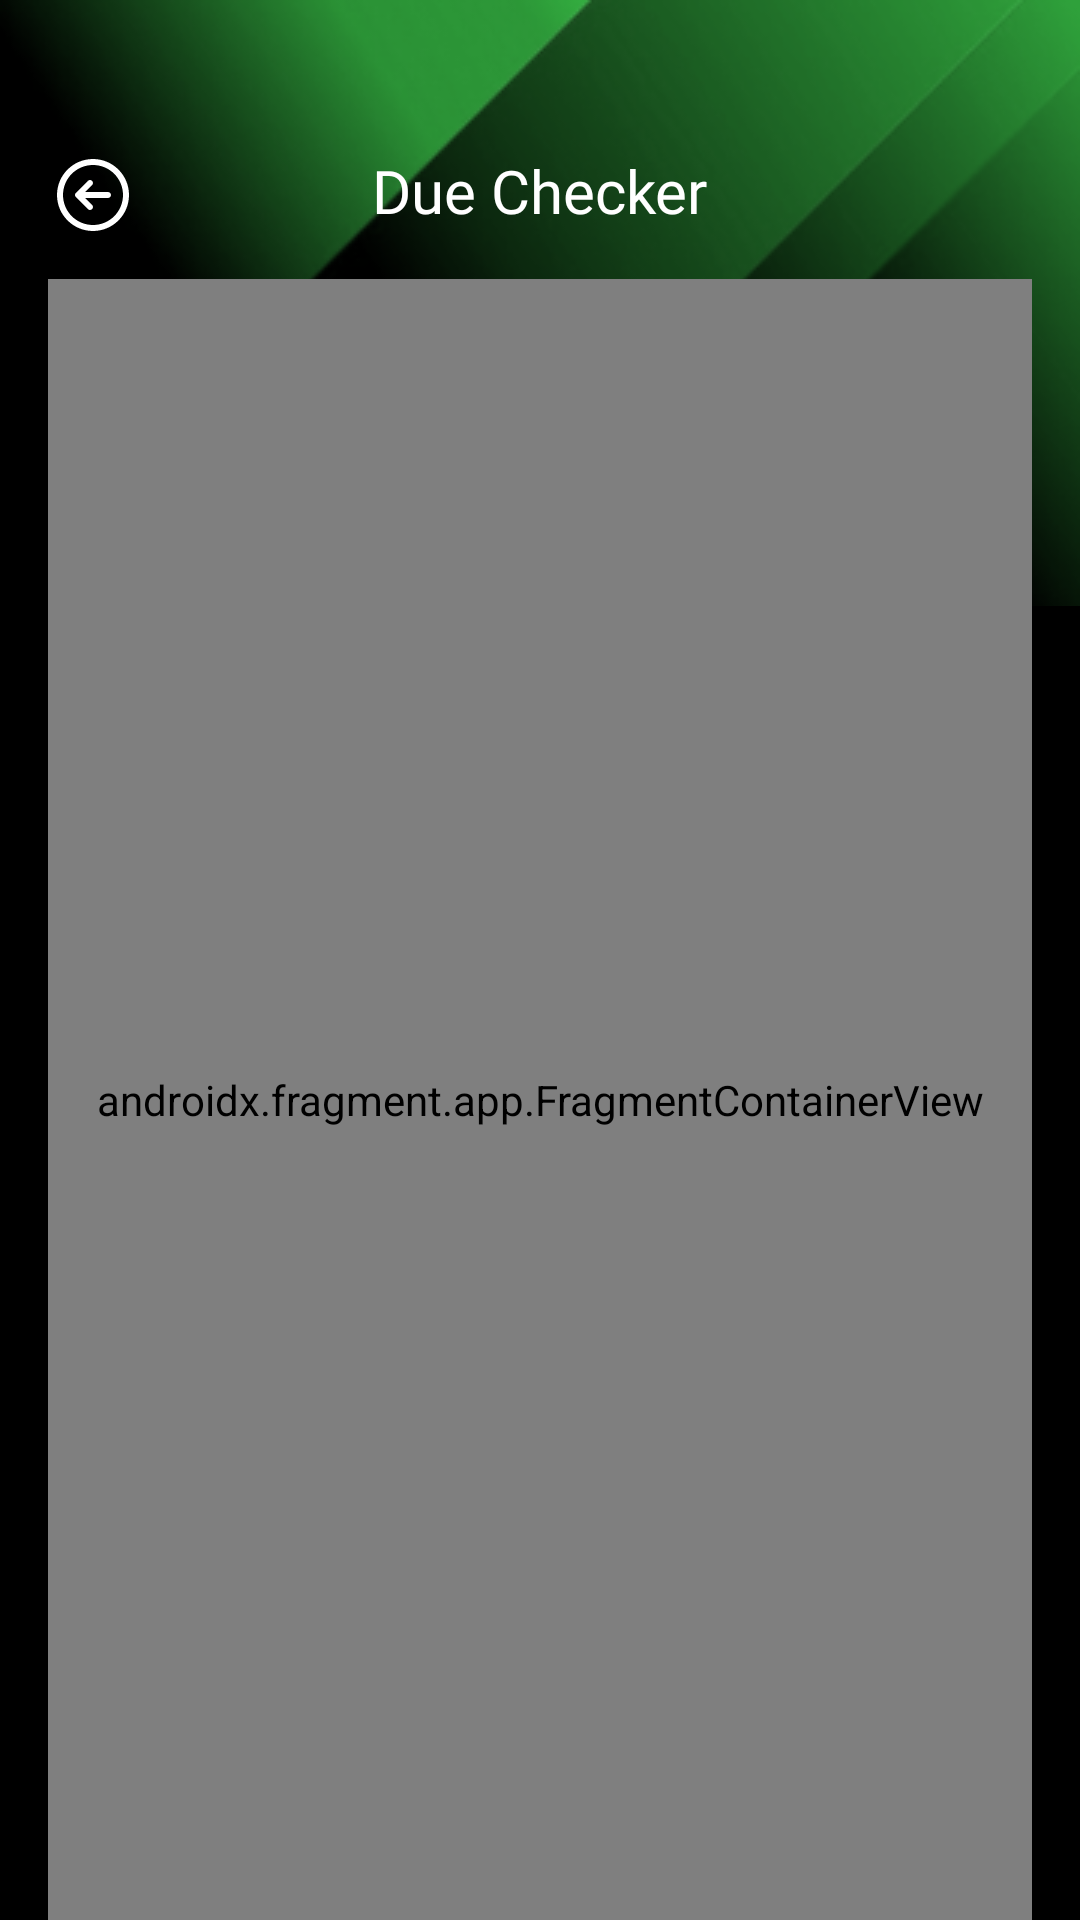

Screen size 1080 × 1920. Icon name, then its center in pixels as [x,y]:
backicon: [93,195]
